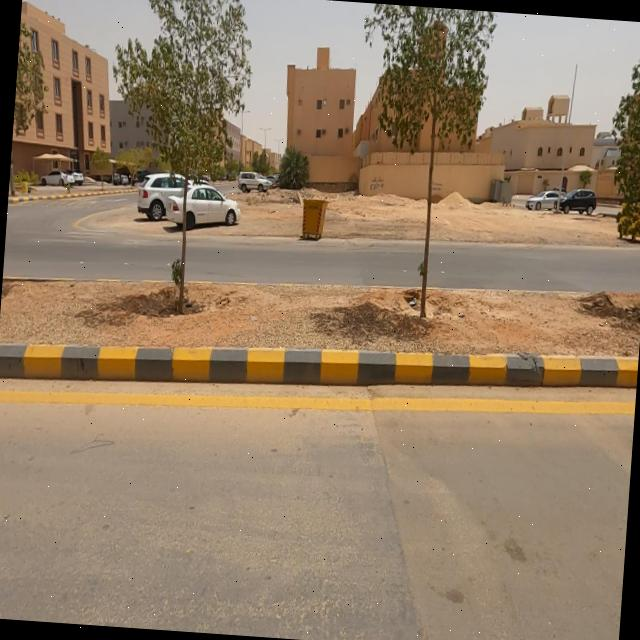Graffiti: (370, 176, 387, 192), (431, 180, 443, 195)
